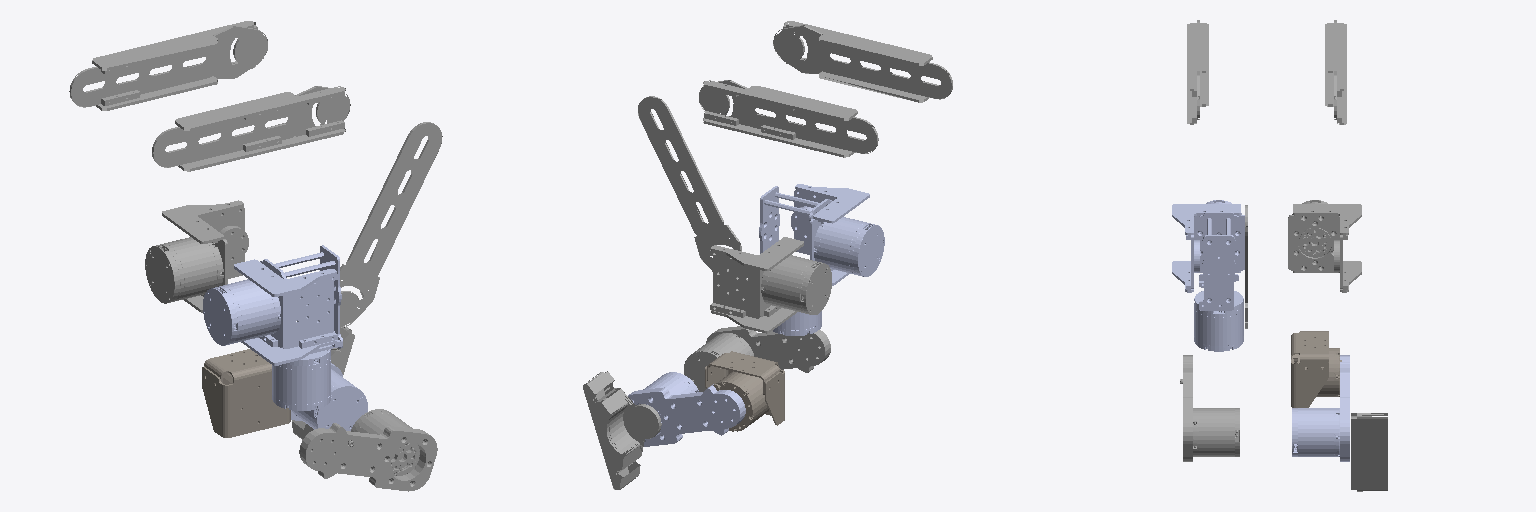
robot.urdf — Pikachu_V01:
<?xml version="1.0" encoding="utf-8"?>
<!-- This URDF was automatically created by SolidWorks to URDF Exporter! Originally created by Stephen Brawner (brawner@gmail.com) 
     Commit Version: 1.6.0-4-g7f85cfe  Build Version: 1.6.7995.38578
     For more information, please see http://wiki.ros.org/sw_urdf_exporter -->
<robot
  name="Pikachu_V01">
  
  
  <!-- mujoco compiler insert -->
  
  <!-- <mujoco>
      <compiler 
      meshdir="../meshes/" 
      balanceinertia="true" 
      discardvisual="false"
      fusestatic="false"/> 
  </mujoco>
   -->
   
  <link
    name="base_link">
    <inertial>
      <origin
        xyz="0.0192484046446927 0.00249628426083394 0.0894284213937917"
        rpy="0 0 0" />
      <mass
        value="1.04578482691312" />
      <inertia
        ixx="0.00406465902676324"
        ixy="7.57272689961396E-08"
        ixz="8.93044145248673E-05"
        iyy="0.00438157067795783"
        iyz="4.93496965835154E-08"
        izz="0.000495755047981349" />
    </inertial>
    <visual>
      <origin
        xyz="0 0 0"
        rpy="0 0 0" />
      <geometry>
        <mesh
          filename="../meshes/base_link.STL" />
      </geometry>
      <material
        name="">
        <color
          rgba="0.792156862745098 0.819607843137255 0.933333333333333 1" />
      </material>
    </visual>
    <collision>
      <origin
        xyz="0 0 0"
        rpy="0 0 0" />
      <geometry>
        <mesh
          filename="../meshes/base_link.STL" />
      </geometry>
    </collision>
  </link>
  <link
    name="back_tail_link">
    <inertial>
      <origin
        xyz="0.0870617396901829 -4.35242120122581E-15 -0.00149999999999541"
        rpy="0 0 0" />
      <mass
        value="0.0553404878609228" />
      <inertia
        ixx="9.04099512803402E-06"
        ixy="-1.83162226476631E-19"
        ixz="-2.79463308749071E-09"
        iyy="0.000211829519933132"
        iyz="-4.40283733453099E-22"
        izz="0.000220787767309185" />
    </inertial>
    <visual>
      <origin
        xyz="0 0 0"
        rpy="0 0 0" />
      <geometry>
        <mesh
          filename="../meshes/back_tail_link.STL" />
      </geometry>
      <material
        name="">
        <color
          rgba="0.698039215686274 0.698039215686274 0.698039215686274 1" />
      </material>
    </visual>
    <collision>
      <origin
        xyz="0 0 0"
        rpy="0 0 0" />
      <geometry>
        <mesh
          filename="../meshes/back_tail_link.STL" />
      </geometry>
    </collision>
  </link>
  <joint
    name="back_tail_joint"
    type="fixed">
    <origin
      xyz="0.0650000000000004 -0.0254499999999994 -0.0399999999999994"
      rpy="1.5707963267949 -1.05 0" />
    <parent
      link="base_link" />
    <child
      link="back_tail_link" />
    <axis
      xyz="0 0 1" />
  </joint>
  <link
    name="left_arm_link">
    <inertial>
      <origin
        xyz="0.0878069289406275 2.53963516883005E-15 -0.000598829402875797"
        rpy="0 0 0" />
      <mass
        value="0.132785524737081" />
      <inertia
        ixx="1.2427673117168E-05"
        ixy="-2.78389217568015E-19"
        ixz="4.53316698434714E-06"
        iyy="0.000345424824733934"
        iyz="-5.74983379271417E-20"
        izz="0.000351210846077783" />
    </inertial>
    <visual>
      <origin
        xyz="0 0 0"
        rpy="0 0 0" />
      <geometry>
        <mesh
          filename="../meshes/left_arm_link.STL" />
      </geometry>
      <material
        name="">
        <color
          rgba="0.698039215686274 0.698039215686274 0.698039215686274 1" />
      </material>
    </visual>
    <collision>
      <origin
        xyz="0 0 0"
        rpy="0 0 0" />
      <geometry>
        <mesh
          filename="../meshes/left_arm_link.STL" />
      </geometry>
    </collision>
  </link>
  <joint
    name="left_arm_joint"
    type="fixed">
    <origin
      xyz="0.0199999999999998 0.0809500000000004 0.205"
      rpy="-1.57079632679491 3.1415926 0" />
    <parent
      link="base_link" />
    <child
      link="left_arm_link" />
    <axis
      xyz="0 0 -1" />

  </joint>
  <link
    name="right_arm_link">
    <inertial>
      <origin
        xyz="0.0846982522182745 9.91914883563538E-15 -0.000310298603530816"
        rpy="0 0 0" />
      <mass
        value="0.126051829781318" />
      <inertia
        ixx="1.2384811107529E-05"
        ixy="-2.44511861378506E-19"
        ixz="4.53316698434715E-06"
        iyy="0.000344497548934873"
        iyz="1.38104631583323E-21"
        izz="0.000350283570278722" />
    </inertial>
    <visual>
      <origin
        xyz="0 0 0"
        rpy="0 0 0" />
      <geometry>
        <mesh
          filename="../meshes/right_arm_link.STL" />
      </geometry>
      <material
        name="">
        <color
          rgba="0.698039215686274 0.698039215686274 0.698039215686274 1" />
      </material>
    </visual>
    <collision>
      <origin
        xyz="0 0 0"
        rpy="0 0 0" />
      <geometry>
        <mesh
          filename="../meshes/right_arm_link.STL" />
      </geometry>
    </collision>
  </link>
  <joint
    name="right_arm_joint"
    type="fixed">
    <origin
      xyz="0.0200000000000008 -0.0809500000000023 0.205"
      rpy="1.57079632679488 3.1415926 0" />
    <parent
      link="base_link" />
    <child
      link="right_arm_link" />
    <axis
      xyz="0 0 1" />

  </joint>
  <link
    name="left_hip_pitch_link">
    <inertial>
      <origin
        xyz="0.047164678756401 2.29594481931938E-06 -0.0231109660173988"
        rpy="0 0 0" />
      <mass
        value="0.240283091885992" />
      <inertia
        ixx="0.00010567950313822"
        ixy="-4.2133249829825E-09"
        ixz="6.46372820114992E-06"
        iyy="0.000101402141671189"
        iyz="1.85268466575085E-08"
        izz="9.44386949645436E-05" />
    </inertial>
    <visual>
      <origin
        xyz="0 0 0"
        rpy="0 0 0" />
      <geometry>
        <mesh
          filename="../meshes/left_hip_pitch_link.STL" />
      </geometry>
      <material
        name="">
        <color
          rgba="0.698039215686274 0.698039215686274 0.698039215686274 1" />
      </material>
    </visual>
    <collision>
      <origin
        xyz="0 0 0"
        rpy="0 0 0" />
      <geometry>
        <mesh
          filename="../meshes/left_hip_pitch_link.STL" />
      </geometry>
    </collision>
  </link>
  <joint
    name="left_hip_pitch_joint"
    type="revolute">
    <origin
      xyz="0 0.0876999999999957 0"
      rpy="1.5707963267949 0 -3.14159265358979" />
    <parent
      link="base_link" />
    <child
      link="left_hip_pitch_link" />
    <axis
      xyz="0 0 1" />
    <limit 
      lower="-0.7"    
      upper="2.7"    
      effort="27"  
      velocity="10" />
    <dynamics 
      damping="0.4" 
      friction="0.01" />
  </joint>
  <link
    name="left_hip_roll_link">
    <inertial>
      <origin
        xyz="-0.000131578086186634 -0.0490802035731037 -0.0331680910493352"
        rpy="0 0 0" />
      <mass
        value="0.237453317125622" />
      <inertia
        ixx="0.000101281549043641"
        ixy="-6.8514958635205E-07"
        ixz="1.85145788731389E-08"
        iyy="7.76647350889941E-05"
        iyz="2.62593565762734E-09"
        izz="9.55481869242956E-05" />
    </inertial>
    <visual>
      <origin
        xyz="0 0 0"
        rpy="0 0 0" />
      <geometry>
        <mesh
          filename="../meshes/left_hip_roll_link.STL" />
      </geometry>
      <material
        name="">
        <color
          rgba="0.698039215686274 0.698039215686274 0.698039215686274 1" />
      </material>
    </visual>
    <collision>
      <origin
        xyz="0 0 0"
        rpy="0 0 0" />
      <geometry>
        <mesh
          filename="../meshes/left_hip_roll_link.STL" />
      </geometry>
    </collision>
  </link>
  <joint
    name="left_hip_roll_joint"
    type="revolute">
    <origin
      xyz="-0.0329999999998985 0 -0.0319999999999964"
      rpy="0 -1.5707963267949 0" />
    <parent
      link="left_hip_pitch_link" />
    <child
      link="left_hip_roll_link" />
    <axis
      xyz="0 0 1" />
    <limit 
      lower="-0.122"    
      upper="0.139"    
      effort="12.5"  
      velocity="5" />
    <dynamics 
      damping="0.1" 
      friction="0.01" />

  </joint>
  <link
    name="left_hip_yaw_link">
    <inertial>
      <origin
        xyz="0.000144543412276071 0.00699444045574775 0.0299012718928228"
        rpy="0 0 0" />
      <mass
        value="0.329226275444801" />
      <inertia
        ixx="0.000165210009097068"
        ixy="-4.1385643884938E-08"
        ixz="-2.09202321652619E-08"
        iyy="0.00028952765917931"
        iyz="-2.31177553373063E-05"
        izz="0.000242730535126742" />
    </inertial>
    <visual>
      <origin
        xyz="0 0 0"
        rpy="0 0 0" />
      <geometry>
        <mesh
          filename="../meshes/left_hip_yaw_link.STL" />
      </geometry>
      <material
        name="">
        <color
          rgba="0.647058823529412 0.619607843137255 0.588235294117647 1" />
      </material>
    </visual>
    <collision>
      <origin
        xyz="0 0 0"
        rpy="0 0 0" />
      <geometry>
        <mesh
          filename="../meshes/left_hip_yaw_link.STL" />
      </geometry>
    </collision>
  </link>
  <joint
    name="left_hip_yaw_joint"
    type="revolute">
    <origin
      xyz="0 -0.110499999999992 -0.0329999999999931"
      rpy="1.5707963267949 -1.5707963267949 0" />
    <parent
      link="left_hip_roll_link" />
    <child
      link="left_hip_yaw_link" />
    <axis
      xyz="0 0 1" />
    <limit 
      lower="-0.261"    
      upper="0.261"    
      effort="12.5"  
      velocity="5" />
    <dynamics 
      damping="0.1" 
      friction="0.01" />
  </joint>
  <link
    name="left_knee_link">
    <inertial>
      <origin
        xyz="3.37502306571313E-05 0.077992676193935 -0.0226477099160689"
        rpy="0 0 0" />
      <mass
        value="0.244244092244912" />
      <inertia
        ixx="0.000245577470764647"
        ixy="1.66562184227726E-08"
        ixz="5.58630980233458E-08"
        iyy="7.48320707718784E-05"
        iyz="-4.77786293220377E-09"
        izz="0.000277378356507274" />
    </inertial>
    <visual>
      <origin
        xyz="0 0 0"
        rpy="0 0 0" />
      <geometry>
        <mesh
          filename="../meshes/left_knee_link.STL" />
      </geometry>
      <material
        name="">
        <color
          rgba="0.792156862745098 0.819607843137255 0.933333333333333 1" />
      </material>
    </visual>
    <collision>
      <origin
        xyz="0 0 0"
        rpy="0 0 0" />
      <geometry>
        <mesh
          filename="../meshes/left_knee_link.STL" />
      </geometry>
    </collision>
  </link>
  <joint
    name="left_knee_joint"
    type="revolute">
    <origin
      xyz="0 -0.0402500000000001 0.038000000000008"
      rpy="1.5707963267949 0 0" />
    <parent
      link="left_hip_yaw_link" />
    <child
      link="left_knee_link" />
    <axis
      xyz="0 0 -1" />
    <limit 
      lower="0.04"    
      upper="2.44"    
      effort="12.5"  
      velocity="5" />
    <dynamics 
      damping="0.1" 
      friction="0.01" />
  </joint>
  <link
    name="left_ankle_link">
    <inertial>
      <origin
        xyz="2.56045185054177E-15 -0.0216454714513506 -0.000820902399707418"
        rpy="0 0 0" />
      <mass
        value="0.0747132228410603" />
      <inertia
        ixx="1.1514920427946E-05"
        ixy="-1.01775711193375E-20"
        ixz="2.00903568573958E-23"
        iyy="5.85049657387164E-05"
        iyz="-2.21029114274286E-09"
        izz="6.99080833258092E-05" />
    </inertial>
    <visual>
      <origin
        xyz="0 0 0"
        rpy="0 0 0" />
      <geometry>
        <mesh
          filename="../meshes/left_ankle_link.STL" />
      </geometry>
      <material
        name="">
        <color
          rgba="0.698039215686274 0.698039215686274 0.698039215686274 1" />
      </material>
    </visual>
    <collision>
      <origin
        xyz="0 0 0"
        rpy="0 0 0" />
      <geometry>
        <mesh
          filename="../meshes/left_ankle_link.STL" />
      </geometry>
    </collision>
  </link>
  <joint
    name="left_ankle_joint"
    type="revolute">
    <origin
      xyz="0 0.1 0.00775000000000223"
      rpy="0 0 3.14159265358979" />
    <parent
      link="left_knee_link" />
    <child
      link="left_ankle_link" />
    <axis
      xyz="0 0 1" />
    <limit 
      lower="-1.64"    
      upper="1.64"    
      effort="12.5"  
      velocity="5" />
    <dynamics 
      damping="0.1" 
      friction="0.01" />
  </joint>
  <link
    name="right_hip_pitch_link">
    <inertial>
      <origin
        xyz="0.0471646787563882 2.29594481299805E-06 -0.0231109660173988"
        rpy="0 0 0" />
      <mass
        value="0.240283091885992" />
      <inertia
        ixx="0.00010567950313822"
        ixy="-4.21332498298585E-09"
        ixz="6.46372820114996E-06"
        iyy="0.000101402141671189"
        iyz="1.85268466575149E-08"
        izz="9.44386949645438E-05" />
    </inertial>
    <visual>
      <origin
        xyz="0 0 0"
        rpy="0 0 0" />
      <geometry>
        <mesh
          filename="../meshes/right_hip_pitch_link.STL" />
      </geometry>
      <material
        name="">
        <color
          rgba="0.792156862745098 0.819607843137255 0.933333333333333 1" />
      </material>
    </visual>
    <collision>
      <origin
        xyz="0 0 0"
        rpy="0 0 0" />
      <geometry>
        <mesh
          filename="../meshes/right_hip_pitch_link.STL" />
      </geometry>
    </collision>
  </link>
  <joint
    name="right_hip_pitch_joint"
    type="revolute">
    <origin
      xyz="0 -0.0877000000000044 0"
      rpy="-1.5707963267949 0 -3.14159265358979" />
    <parent
      link="base_link" />
    <child
      link="right_hip_pitch_link" />
    <axis
      xyz="0 0 -1" />
    <limit 
      lower="-0.7"    
      upper="2.7"    
      effort="27"  
      velocity="10" />
    <dynamics 
      damping="0.4" 
      friction="0.01" />
  </joint>
  <link
    name="right_hip_roll_link">
    <inertial>
      <origin
        xyz="-0.000131578086186711 -0.0490802035731159 -0.0331680910493347"
        rpy="0 0 0" />
      <mass
        value="0.237453317125623" />
      <inertia
        ixx="0.000101281549043641"
        ixy="-6.85149586352047E-07"
        ixz="1.85145788731366E-08"
        iyy="7.76647350889941E-05"
        iyz="2.62593565777281E-09"
        izz="9.55481869242957E-05" />
    </inertial>
    <visual>
      <origin
        xyz="0 0 0"
        rpy="0 0 0" />
      <geometry>
        <mesh
          filename="../meshes/right_hip_roll_link.STL" />
      </geometry>
      <material
        name="">
        <color
          rgba="0.792156862745098 0.819607843137255 0.933333333333333 1" />
      </material>
    </visual>
    <collision>
      <origin
        xyz="0 0 0"
        rpy="0 0 0" />
      <geometry>
        <mesh
          filename="../meshes/right_hip_roll_link.STL" />
      </geometry>
    </collision>
  </link>
  <joint
    name="right_hip_roll_joint"
    type="revolute">
    <origin
      xyz="-0.0330000000000126 0 -0.0320000000000056"
      rpy="3.14159265358979 1.5707963267949 0" />
    <parent
      link="right_hip_pitch_link" />
    <child
      link="right_hip_roll_link" />
    <axis
      xyz="0 0 -1" />
    <limit 
      lower="-0.122"    
      upper="0.139"    
      effort="12.5"  
      velocity="5" />
    <dynamics 
      damping="0.1" 
      friction="0.01" />
  </joint>
  <link
    name="right_hip_yaw_link">
    <inertial>
      <origin
        xyz="-1.80647165639453E-05 -0.00720758801509277 0.0298984250044248"
        rpy="0 0 0" />
      <mass
        value="0.327324989928112" />
      <inertia
        ixx="0.000165068065313523"
        ixy="-4.147938141584E-08"
        ixz="-2.39875237559401E-08"
        iyy="0.000289354850328195"
        iyz="2.31175686425225E-05"
        izz="0.000242696892994118" />
    </inertial>
    <visual>
      <origin
        xyz="0 0 0"
        rpy="0 0 0" />
      <geometry>
        <mesh
          filename="../meshes/right_hip_yaw_link.STL" />
      </geometry>
      <material
        name="">
        <color
          rgba="0.792156862745098 0.819607843137255 0.933333333333333 1" />
      </material>
    </visual>
    <collision>
      <origin
        xyz="0 0 0"
        rpy="0 0 0" />
      <geometry>
        <mesh
          filename="../meshes/right_hip_yaw_link.STL" />
      </geometry>
    </collision>
  </link>
  <joint
    name="right_hip_yaw_joint"
    type="revolute">
    <origin
      xyz="0 -0.110500000000004 -0.0330000000000059"
      rpy="1.5707963267949 -1.5707963267949 0" />
    <parent
      link="right_hip_roll_link" />
    <child
      link="right_hip_yaw_link" />
    <axis
      xyz="0 0 -1" />
    <limit 
      lower="-0.261"    
      upper="0.261"    
      effort="12.5"  
      velocity="5" />
    <dynamics 
      damping="0.1" 
      friction="0.01" />
  </joint>
  <link
    name="right_knee_link">
    <inertial>
      <origin
        xyz="3.27812508690156E-06 -0.0778846142592483 -0.0225875584669033"
        rpy="0 0 0" />
      <mass
        value="0.244872851574774" />
      <inertia
        ixx="0.00024554440406305"
        ixy="2.85439858682006E-08"
        ixz="-4.68779326395104E-08"
        iyy="7.48700324479953E-05"
        iyz="-3.07564675120527E-08"
        izz="0.00027738117353851" />
    </inertial>
    <visual>
      <origin
        xyz="0 0 0"
        rpy="0 0 0" />
      <geometry>
        <mesh
          filename="../meshes/right_knee_link.STL" />
      </geometry>
      <material
        name="">
        <color
          rgba="0.698039215686274 0.698039215686274 0.698039215686274 1" />
      </material>
    </visual>
    <collision>
      <origin
        xyz="0 0 0"
        rpy="0 0 0" />
      <geometry>
        <mesh
          filename="../meshes/right_knee_link.STL" />
      </geometry>
    </collision>
  </link>
  <joint
    name="right_knee_joint"
    type="revolute">
    <origin
      xyz="0 0.0419999999999997 0.037999999999996"
      rpy="-1.5707963267949 0 0" />
    <parent
      link="right_hip_yaw_link" />
    <child
      link="right_knee_link" />
    <axis
      xyz="0 0 1" />
    <limit 
      lower="0.04"    
      upper="2.44"    
      effort="12.5"  
      velocity="5" />
    <dynamics 
      damping="0.1" 
      friction="0.01" />
  </joint>
  <link
    name="right_ankle_link">
    <inertial>
      <origin
        xyz="-9.93649607039515E-15 -0.021645471451363 0.000820902399698301"
        rpy="0 0 0" />
      <mass
        value="0.0747132228410604" />
      <inertia
        ixx="1.1514920427946E-05"
        ixy="-4.79728186702888E-21"
        ixz="2.68167580902225E-21"
        iyy="5.85049657387164E-05"
        iyz="2.21029114274467E-09"
        izz="6.99080833258093E-05" />
    </inertial>
    <visual>
      <origin
        xyz="0 0 0"
        rpy="0 0 0" />
      <geometry>
        <mesh
          filename="../meshes/right_ankle_link.STL" />
      </geometry>
      <material
        name="">
        <color
          rgba="0.698039215686274 0.698039215686274 0.698039215686274 1" />
      </material>
    </visual>
    <collision>
      <origin
        xyz="0 0 0"
        rpy="0 0 0" />
      <geometry>
        <mesh
          filename="../meshes/right_ankle_link.STL" />
      </geometry>
    </collision>
  </link>
  <joint
    name="right_ankle_joint"
    type="revolute">
    <origin
      xyz="0 -0.100000000000003 0.00775000000000253"
      rpy="3.14159265358979 0 3.14159265358979" />
    <parent
      link="right_knee_link" />
    <child
      link="right_ankle_link" />
    <axis
      xyz="0 0 1" />
    <limit 
      lower="-1.64"    
      upper="1.64"    
      effort="12.5"  
      velocity="5" />
    <dynamics 
      damping="0.1" 
      friction="0.01" />
  </joint>

<!-- IMU -->
  <!-- <link
    name="imu">
    <inertial>
      <origin
        xyz="0 0 0"
        rpy="0 0 0" />
      <mass
        value="0" />
      <inertia
        ixx="0"
        ixy="0"
        ixz="0"
        iyy="0"
        iyz="0"
        izz="0" />
    </inertial>
  </link>
  <joint
    name="imu_joint"
    type="fixed">
    <origin
      xyz="-0.02557 0 0.04232"
      rpy="0 0 0" />
    <parent
      link="base" />
    <child
      link="imu" />
    <axis
      xyz="0 0 0" />
  </joint> -->


</robot>

--- Render facts (derived) ---
The picture shows the robot from 3 angles, left to right: view 1: azimuth 30°, elevation 25°; view 2: azimuth 150°, elevation 25°; view 3: azimuth 270°, elevation 25°; orthographic projection.
Robot: Pikachu_V01 — 14 links, 13 joints (10 revolute, 3 fixed); root link base_link; default pose: all joints at 0 but 2 set to mid-range because 0 is outside their limits (left_knee_joint = 1.24, right_knee_joint = 1.24).
Links seen in each view (by area): view 1: right_hip_pitch_link, right_arm_link, left_arm_link, left_hip_pitch_link, right_knee_link, back_tail_link, left_hip_yaw_link, right_hip_roll_link, left_knee_link, left_ankle_link; view 2: left_hip_pitch_link, left_arm_link, right_arm_link, right_hip_pitch_link, back_tail_link, left_knee_link, left_ankle_link, right_knee_link, left_hip_yaw_link, right_hip_roll_link; view 3: right_hip_roll_link, left_hip_pitch_link, left_knee_link, right_knee_link, left_hip_yaw_link, left_ankle_link, right_hip_pitch_link, left_arm_link, right_arm_link.
Link boxes in pixels (x1=…): right_hip_pitch_link: x1=203, y1=259, x2=337, y2=365; right_arm_link: x1=152, y1=86, x2=350, y2=171; left_arm_link: x1=69, y1=21, x2=267, y2=110; left_hip_pitch_link: x1=145, y1=200, x2=248, y2=312; right_knee_link: x1=299, y1=409, x2=437, y2=491; back_tail_link: x1=340, y1=122, x2=442, y2=327; left_hip_yaw_link: x1=202, y1=349, x2=290, y2=437; right_hip_roll_link: x1=260, y1=245, x2=342, y2=410; left_knee_link: x1=291, y1=363, x2=367, y2=430; left_ankle_link: x1=292, y1=327, x2=354, y2=439; left_hip_pitch_link: x1=710, y1=237, x2=831, y2=333; left_arm_link: x1=699, y1=80, x2=878, y2=157; right_arm_link: x1=773, y1=21, x2=952, y2=102; right_hip_pitch_link: x1=791, y1=184, x2=884, y2=285; back_tail_link: x1=638, y1=96, x2=741, y2=271; left_knee_link: x1=628, y1=372, x2=745, y2=446; left_ankle_link: x1=583, y1=371, x2=661, y2=489; right_knee_link: x1=684, y1=326, x2=830, y2=391; left_hip_yaw_link: x1=705, y1=351, x2=784, y2=431; right_hip_roll_link: x1=759, y1=186, x2=831, y2=335; right_hip_roll_link: x1=1194, y1=212, x2=1243, y2=351; left_hip_pitch_link: x1=1288, y1=200, x2=1361, y2=292; left_knee_link: x1=1292, y1=355, x2=1349, y2=461; right_knee_link: x1=1180, y1=355, x2=1239, y2=461; left_hip_yaw_link: x1=1291, y1=331, x2=1341, y2=407; left_ankle_link: x1=1351, y1=413, x2=1387, y2=491; right_hip_pitch_link: x1=1172, y1=200, x2=1244, y2=292; left_arm_link: x1=1325, y1=20, x2=1346, y2=124; right_arm_link: x1=1187, y1=20, x2=1208, y2=124.
Size in the robot's own frame: 0.3544 by 0.2494 by 0.4831 metres.
10 mesh visuals loaded from 14 distinct referenced files (10 binary STL); not drawn: 4 (reference not matched to a file when rendering).
